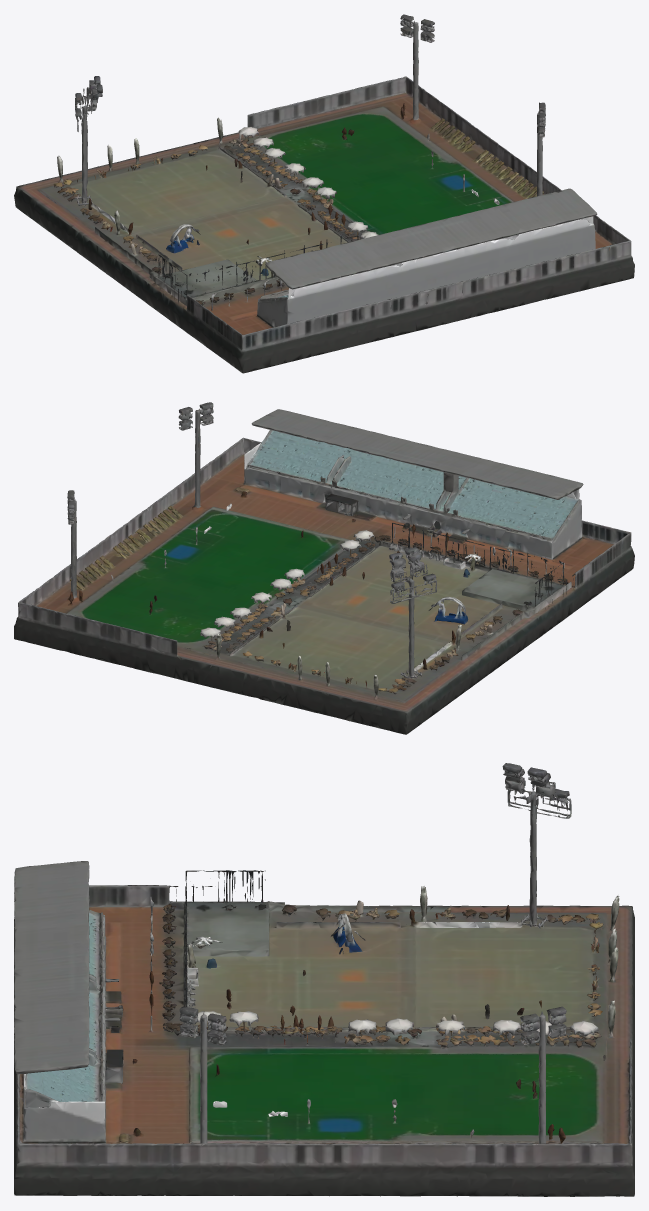
Rendered from city-club-4.glb.
3 renders of one model, top to bottom at view 1: azimuth 30°, elevation 25°; view 2: azimuth 150°, elevation 25°; view 3: azimuth 270°, elevation 25°, orthographic. The views are drawn at different scales.
Size of the model in its own units: 1 by 0.3517 by 1.
Materials: 1 (1 with a texture image).
